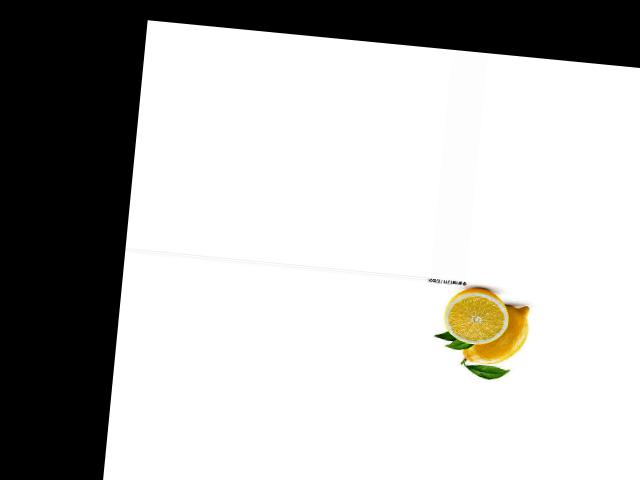lemon: (456, 297, 541, 371)
